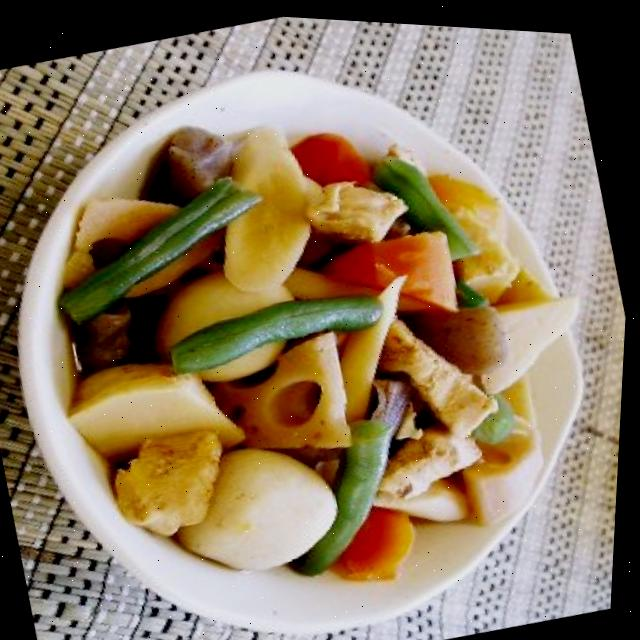鸡肉料理 含炸鸡: (0, 11, 591, 640)
